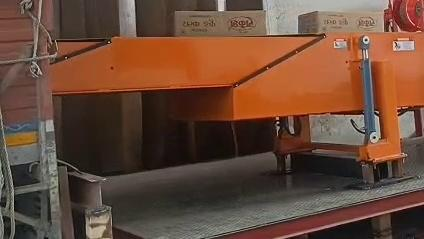box: (173, 10, 267, 36), (298, 11, 383, 33)
